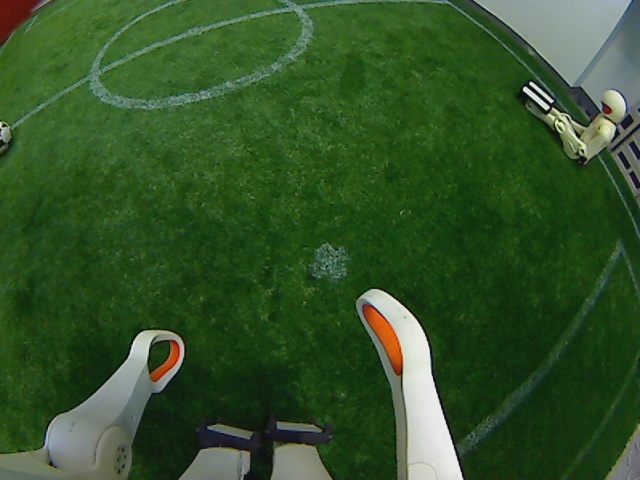robot: (520, 71, 627, 167)
